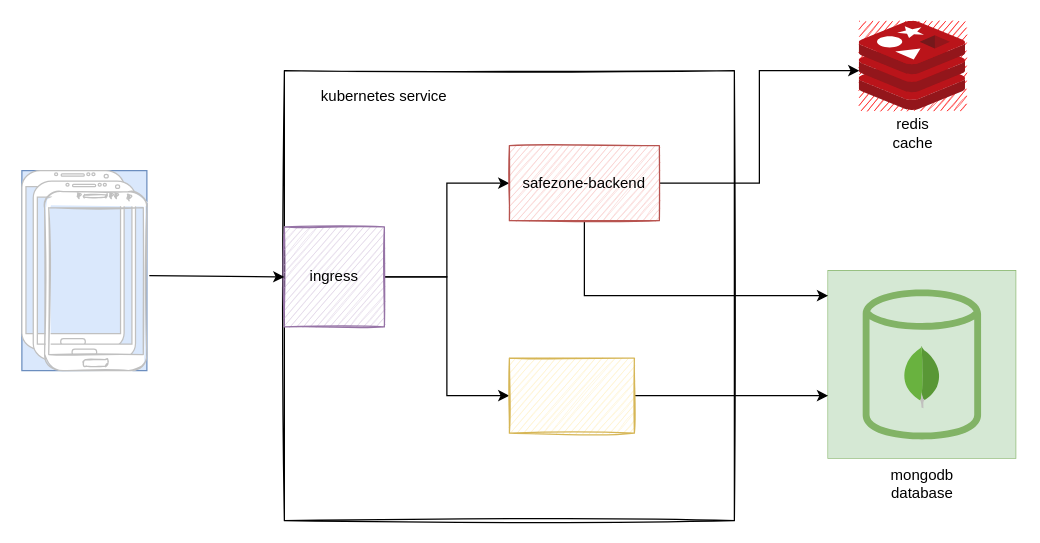
Image size: 1040x543. Some labels were removed from this diagram. Each missing label, with the centre of its shape:
Clients: the point at 95,280
data-ingester: the point at 571,395
